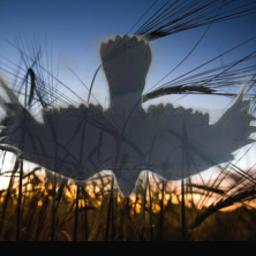Crow: (0, 35, 256, 197)
